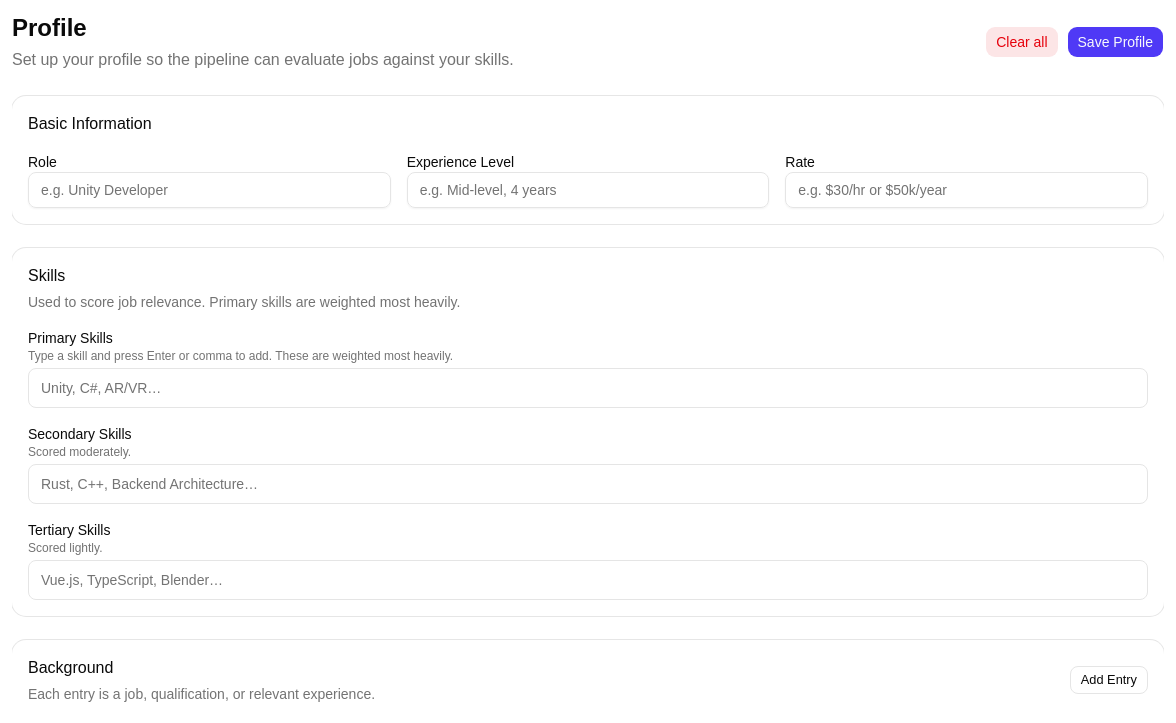
it: ProfilePage › saves a new profile and shows success toast
In the field with placeholder "e.g. Unity Developer": (209, 190) [28, 172, 391, 208], type "Game Dev"
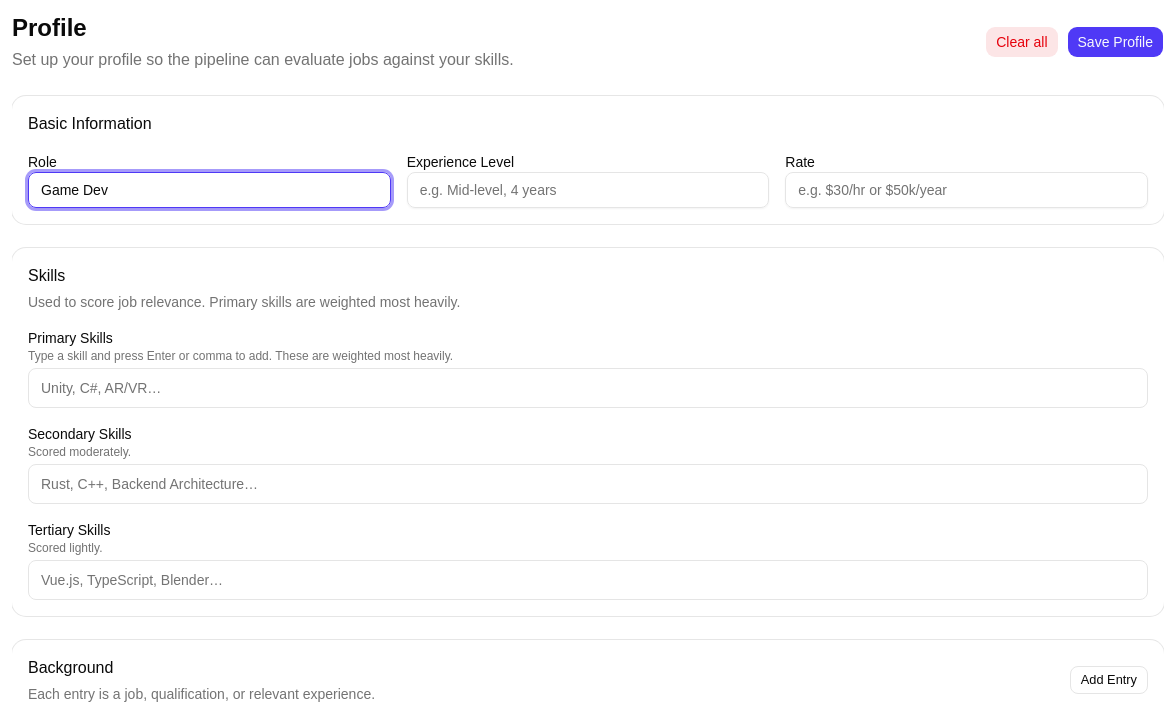
In the field with placeholder "e.g. Mid-level, 4 years": (588, 190) [407, 172, 769, 208], type "Senior"
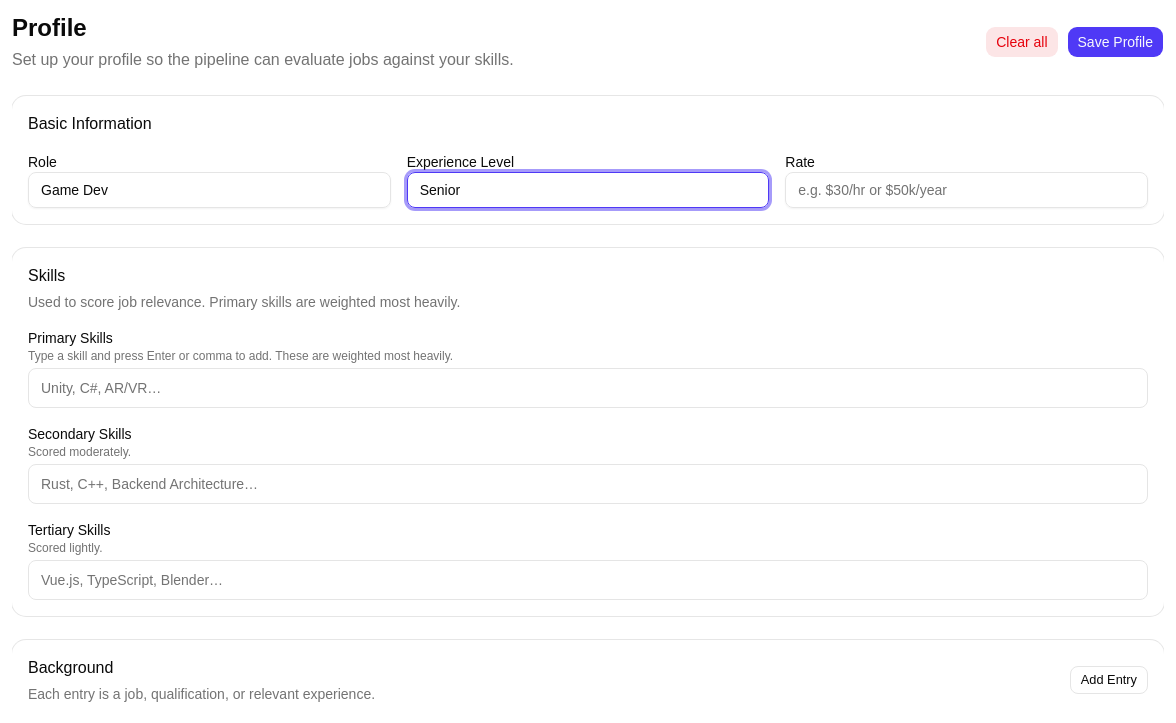
In the field with placeholder "e.g. $30/hr or $50k/year": (967, 190) [785, 172, 1148, 208], type "$50/hr"
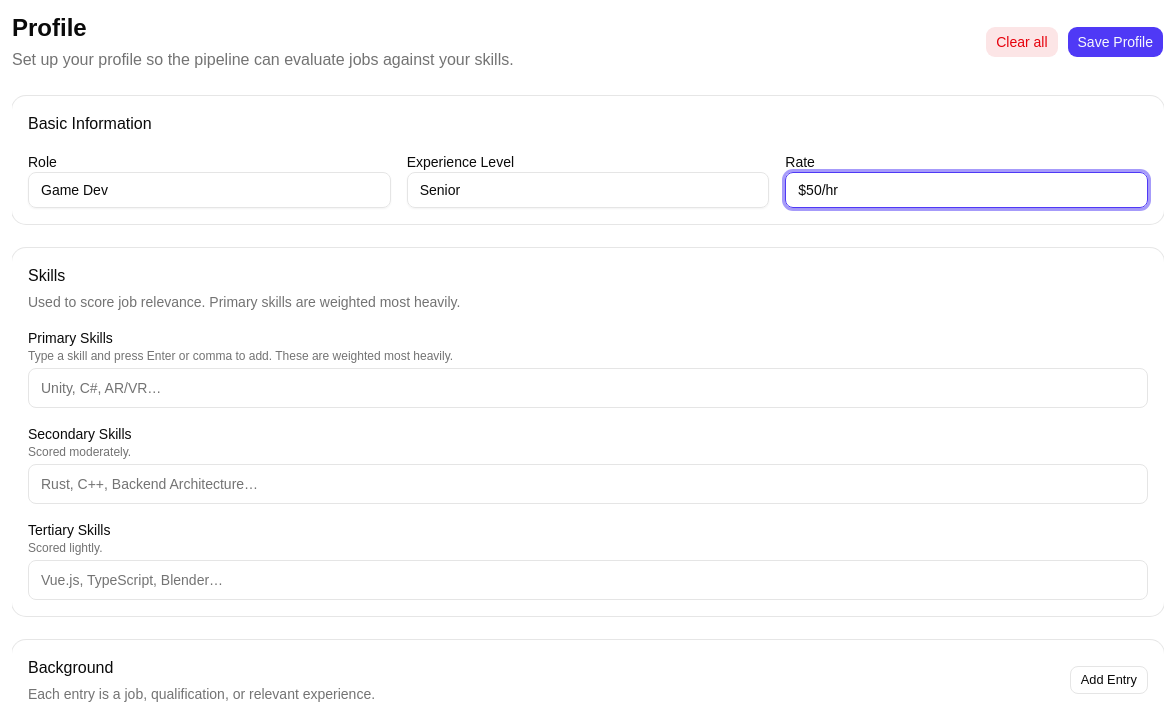
// Click save
Click the button "Save Profile": (1115, 42) [1066, 26, 1164, 58]
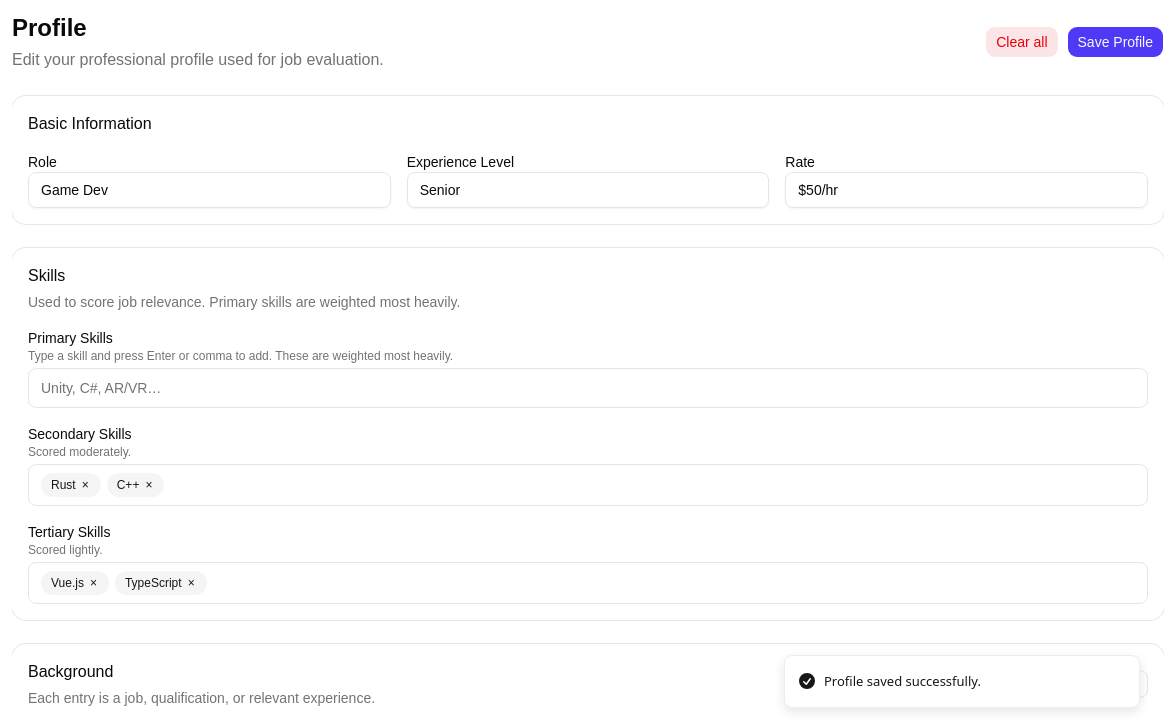
Expected: the text "Profile saved successfully." is shown, [824, 672, 981, 691]
